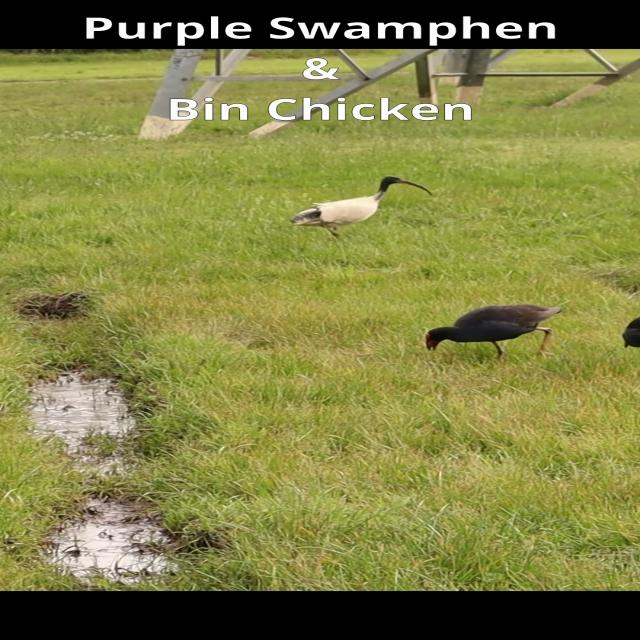Birds-Ibis: (286, 172, 437, 242)
Birds-Other: (422, 302, 566, 363), (620, 315, 640, 354)
